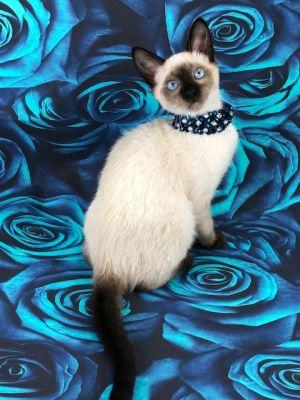siamese: (130, 16, 235, 128)
